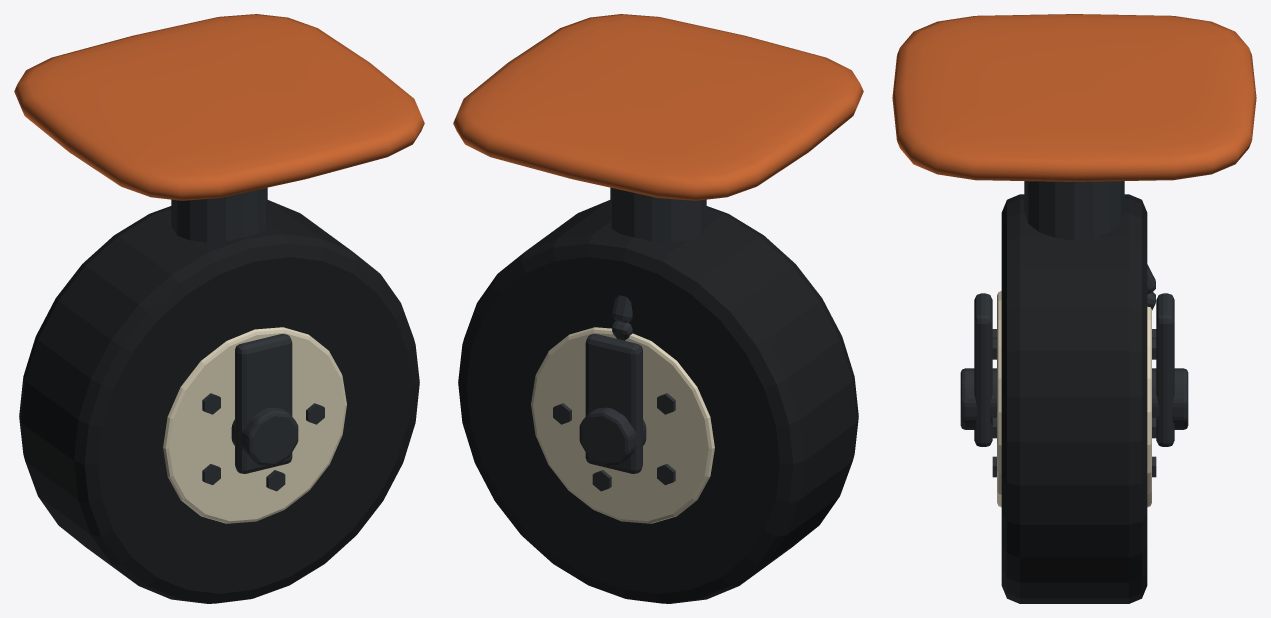
Rendered from prop_gear.glb.
3 renders of one model, left to right at view 1: azimuth 30°, elevation 25°; view 2: azimuth 150°, elevation 25°; view 3: azimuth 270°, elevation 25°, orthographic. The views are drawn at different scales.
Parts seen in each view (by area): view 1: Wheel_tyre, mount, Wheel_hub, fork2, cylinder, Wheel_axle; view 2: Wheel_tyre, mount, Wheel_hub, fork-2, cylinder, Wheel_axle; view 3: mount, Wheel_tyre, cylinder, fork-2, fork2, Wheel_axle, Wheel_hub.
Boxes of the visible parts, x1=… form: Wheel_tyre: x1=19, y1=200, x2=419, y2=603; mount: x1=14, y1=14, x2=424, y2=200; Wheel_hub: x1=163, y1=327, x2=346, y2=523; fork2: x1=235, y1=334, x2=292, y2=473; cylinder: x1=171, y1=187, x2=267, y2=242; Wheel_axle: x1=231, y1=407, x2=298, y2=465; Wheel_tyre: x1=458, y1=200, x2=858, y2=603; mount: x1=453, y1=14, x2=863, y2=200; Wheel_hub: x1=531, y1=327, x2=714, y2=523; fork-2: x1=585, y1=334, x2=642, y2=473; cylinder: x1=610, y1=187, x2=706, y2=242; Wheel_axle: x1=579, y1=407, x2=646, y2=465; mount: x1=892, y1=14, x2=1256, y2=181; Wheel_tyre: x1=1001, y1=194, x2=1147, y2=603; cylinder: x1=1024, y1=181, x2=1124, y2=240; fork-2: x1=1156, y1=293, x2=1174, y2=446; fork2: x1=974, y1=293, x2=992, y2=446; Wheel_axle: x1=960, y1=368, x2=1188, y2=429; Wheel_hub: x1=997, y1=291, x2=1151, y2=507.
Bounding box in the file's own units: 0.9 × 1.22 × 0.8.
